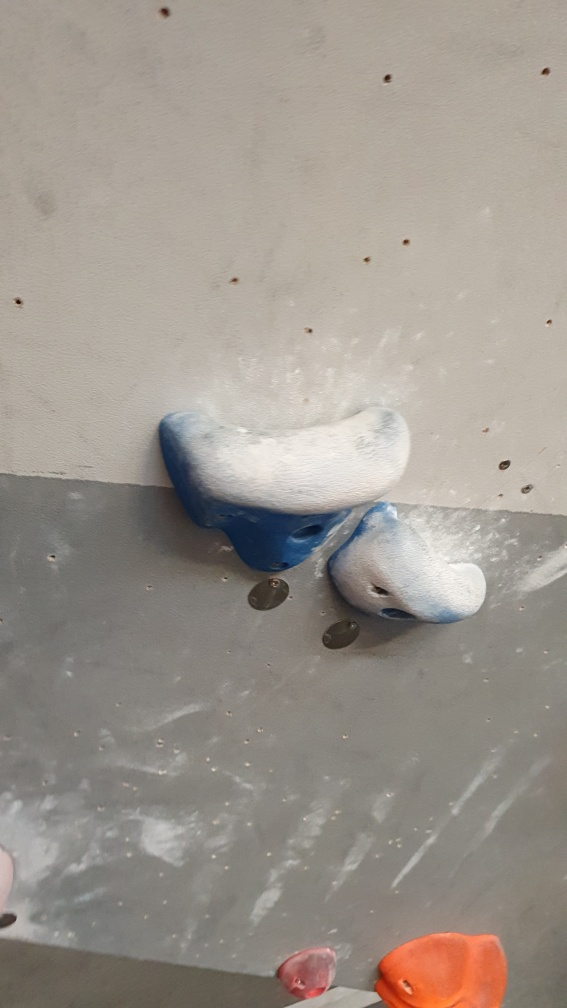Hand Start: (245, 576, 291, 614), (319, 613, 362, 653)
Jug: (160, 404, 412, 576), (324, 507, 488, 628)
